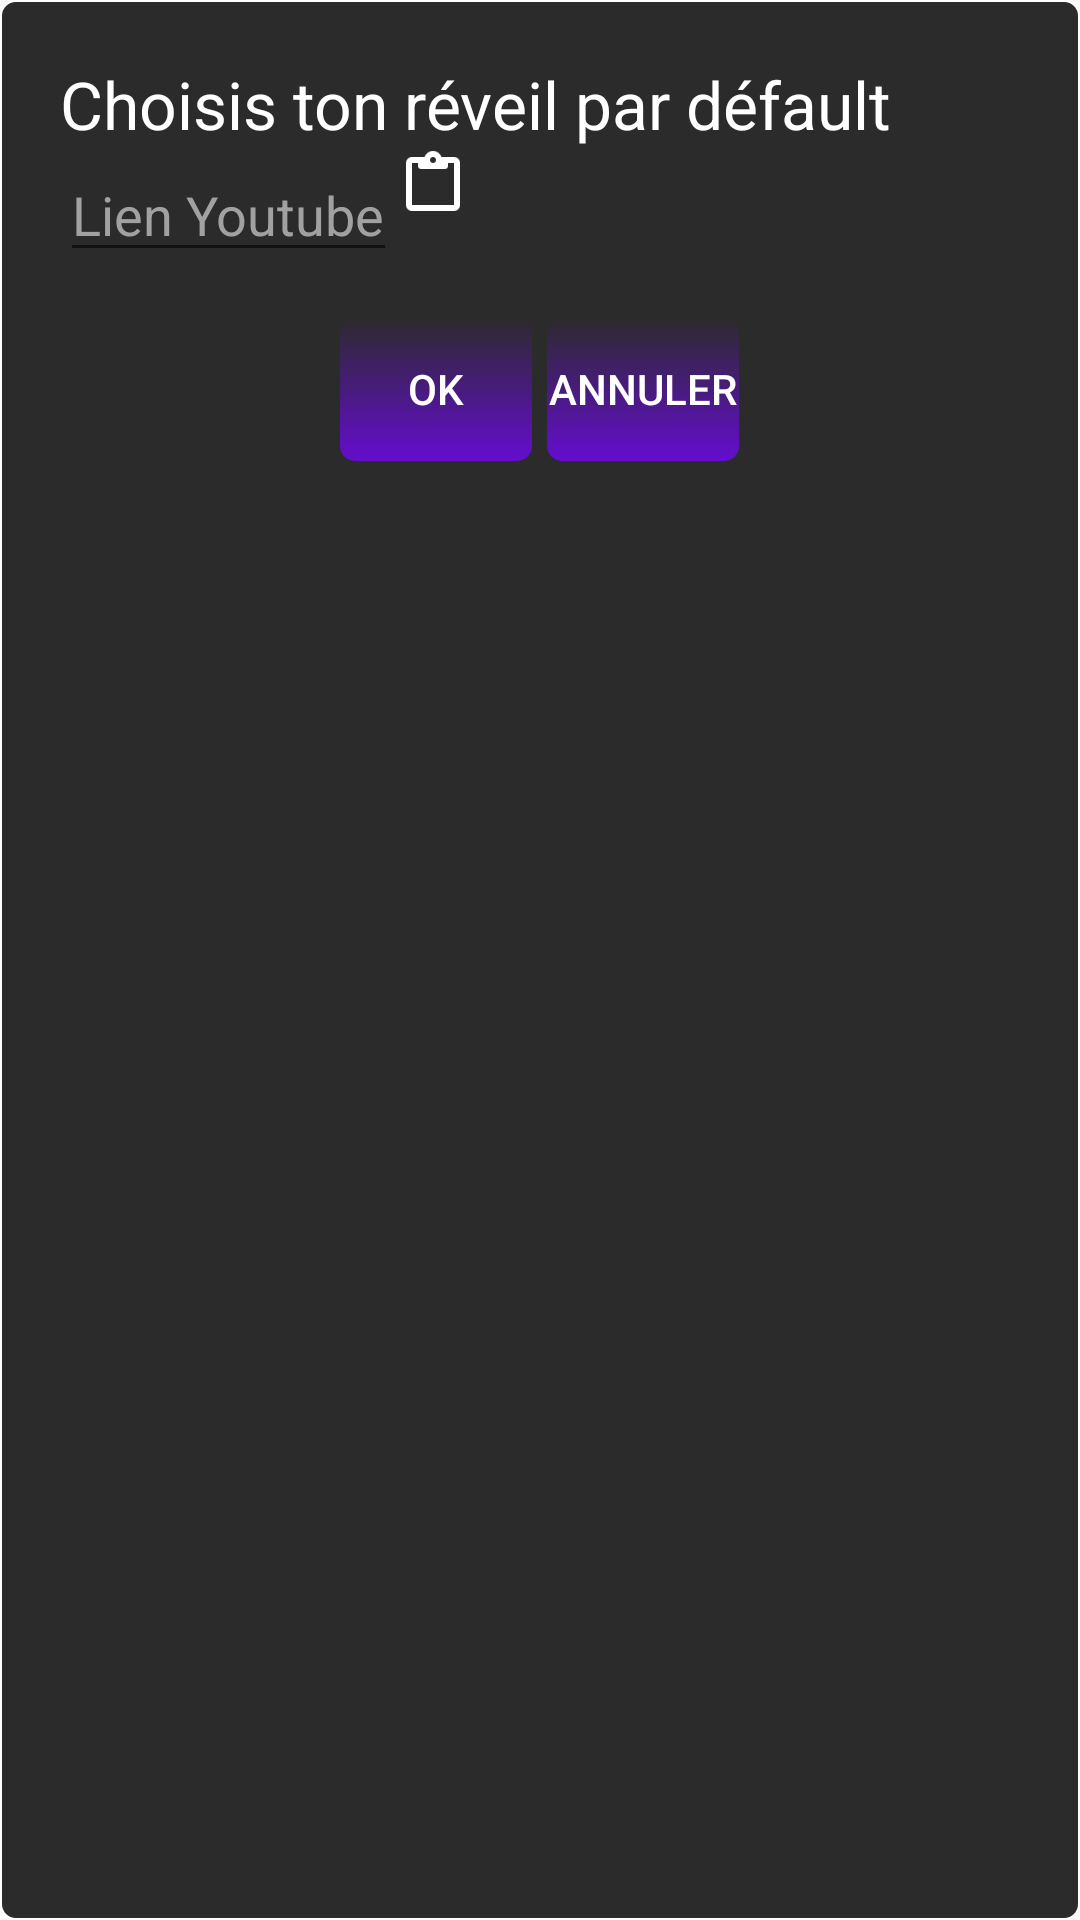

Icon click points for this 1080*1920 phone screenshot, format (x=x, y=y):
paste: (x=433, y=181)
